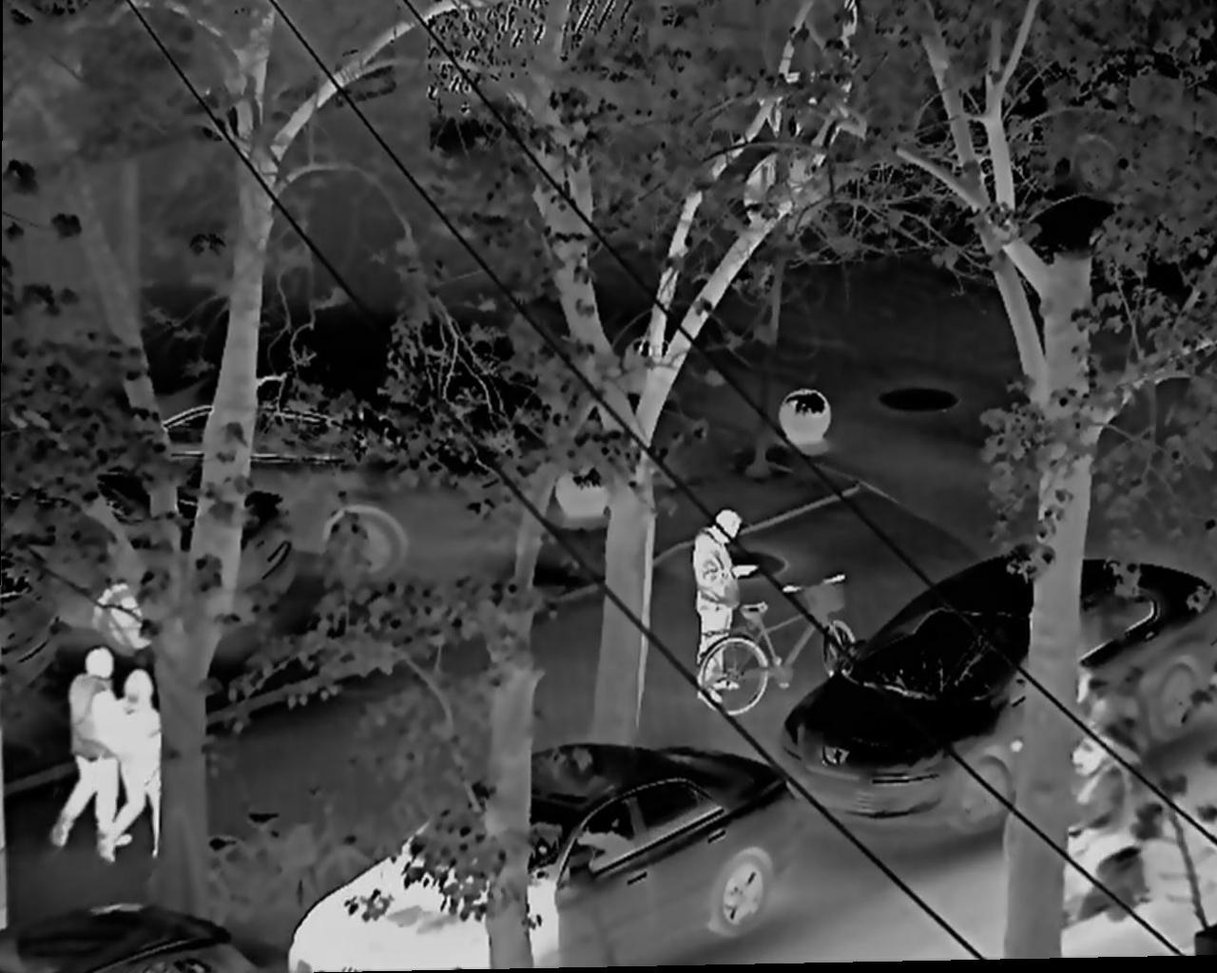person: (50, 645, 116, 860), (692, 507, 756, 707), (114, 668, 164, 847)
